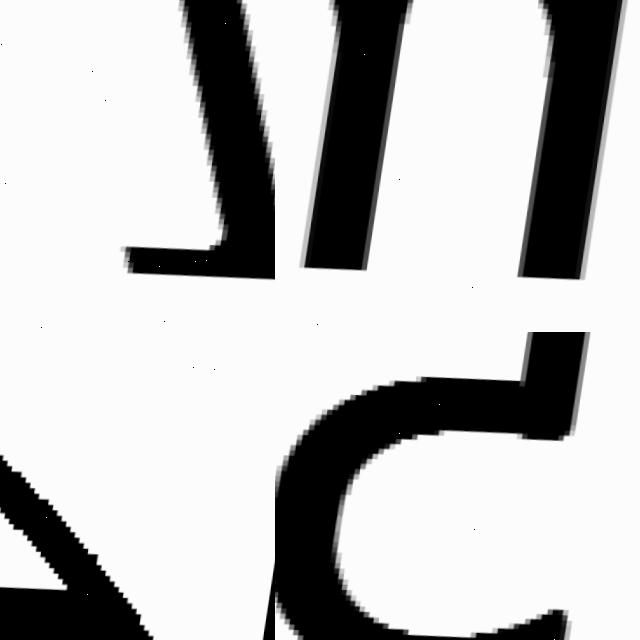1: (64, 0, 275, 306)
2: (0, 332, 243, 640)
5: (275, 332, 640, 640)
M: (275, 0, 640, 308)
